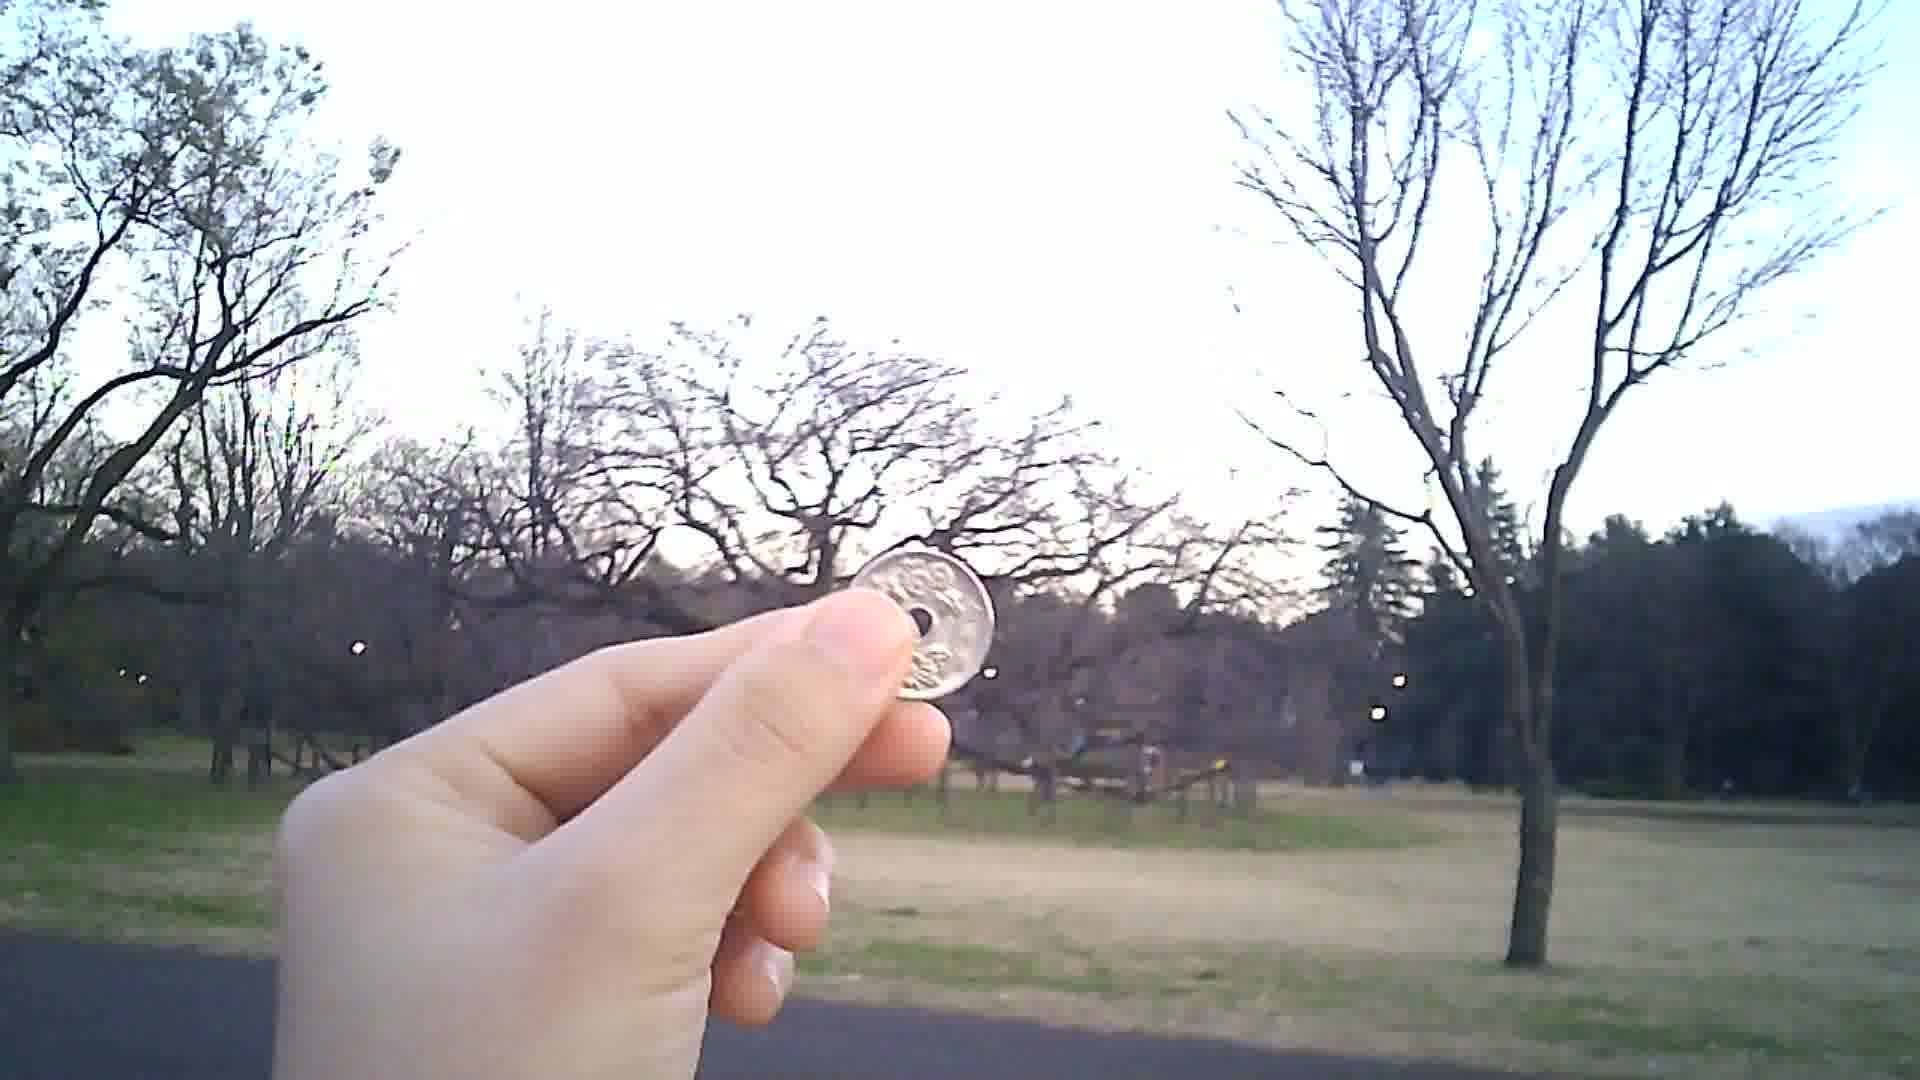50 Yen: (843, 533, 1007, 719)
